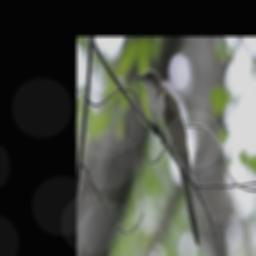Cuckoo: (135, 66, 202, 249)
